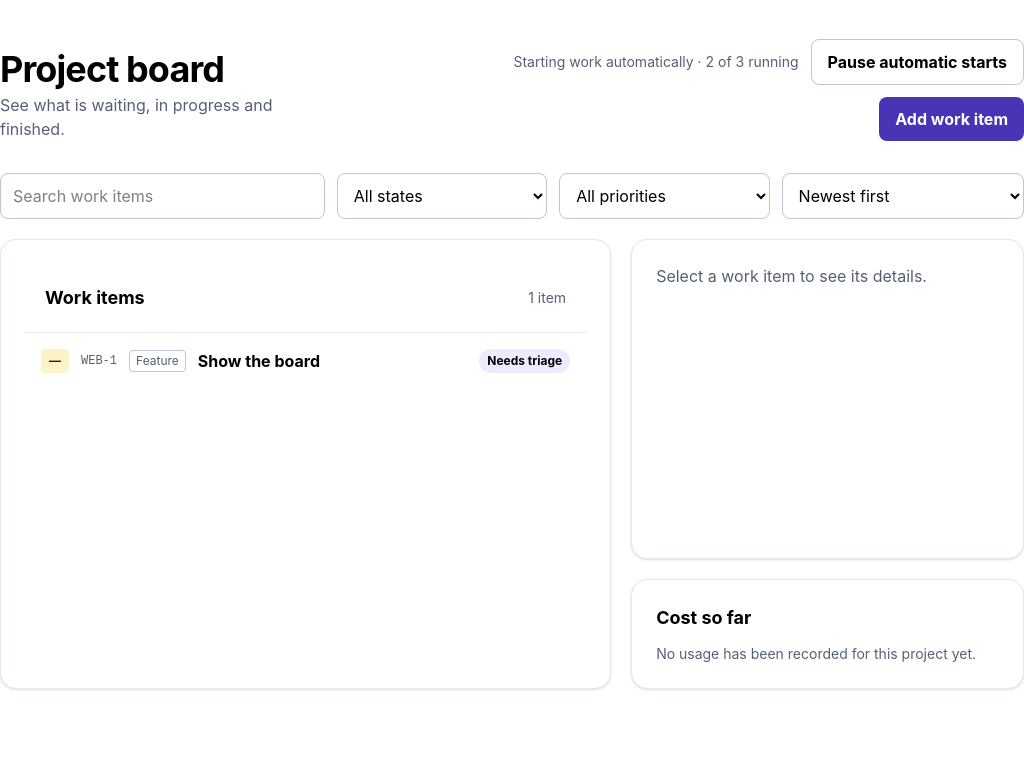
Test: keeps entered details when saving fails and retries with Try again
Expected: the button "— WEB-1 Feature Show the board Needs triage" is shown, [33,341,578,381]
Click the button "Add work item" at (952, 119), box [879,97,1023,141]
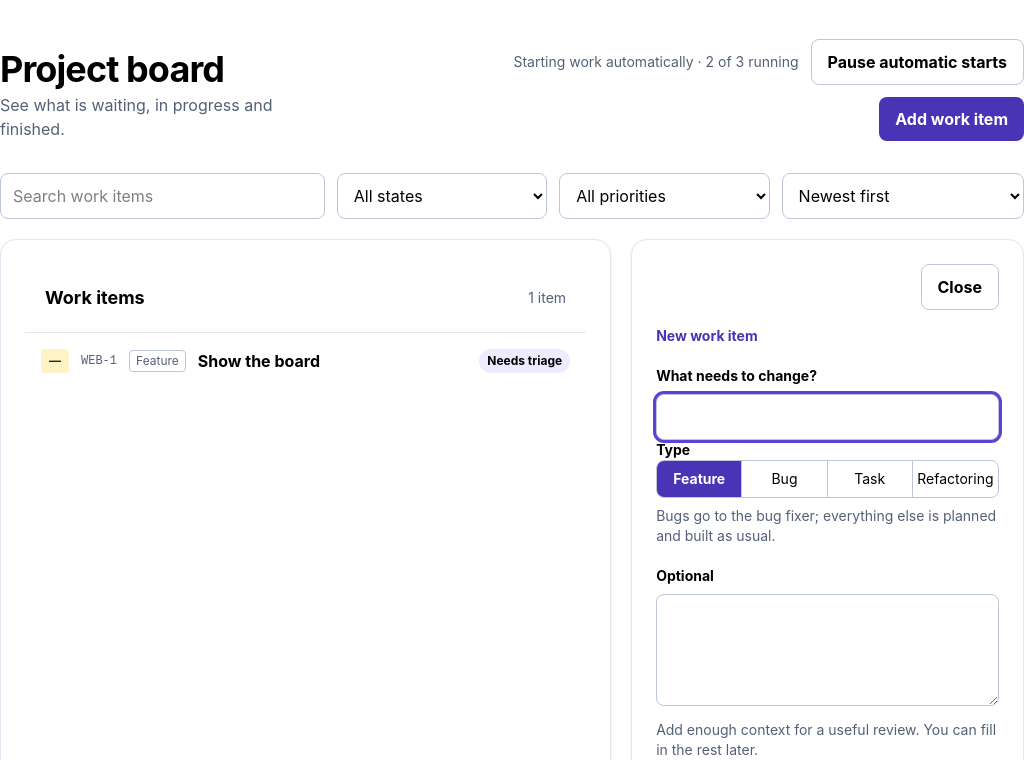
Type "Draft" into the field labelled "What needs to change?" at (828, 417), box [656,394,999,440]
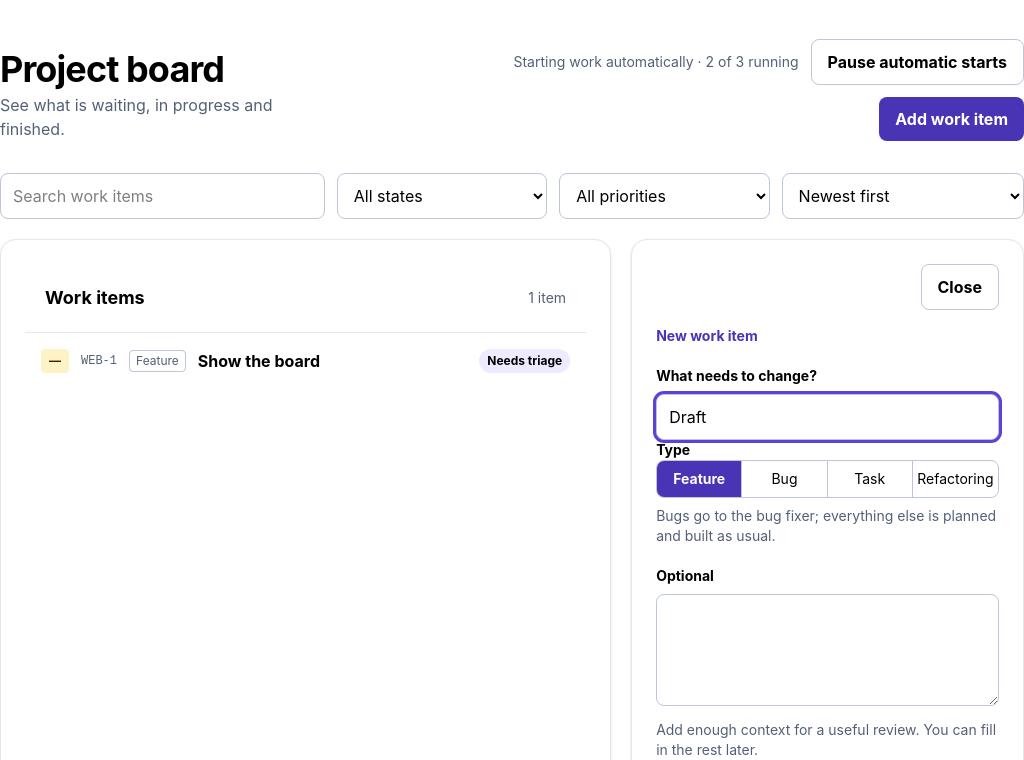
Type "Context" into the text box labelled "Optional" at (828, 650), box [656,594,999,706]
(page scrolled)
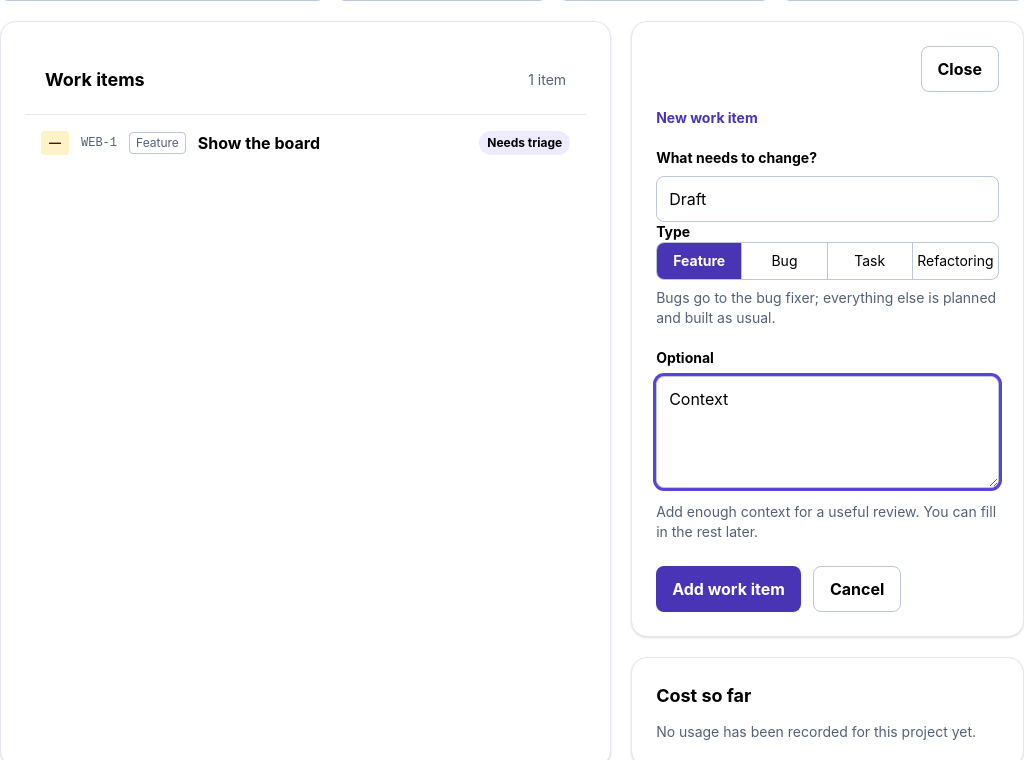
Click the button "Add work item" at (728, 589), box [656,566,801,612]
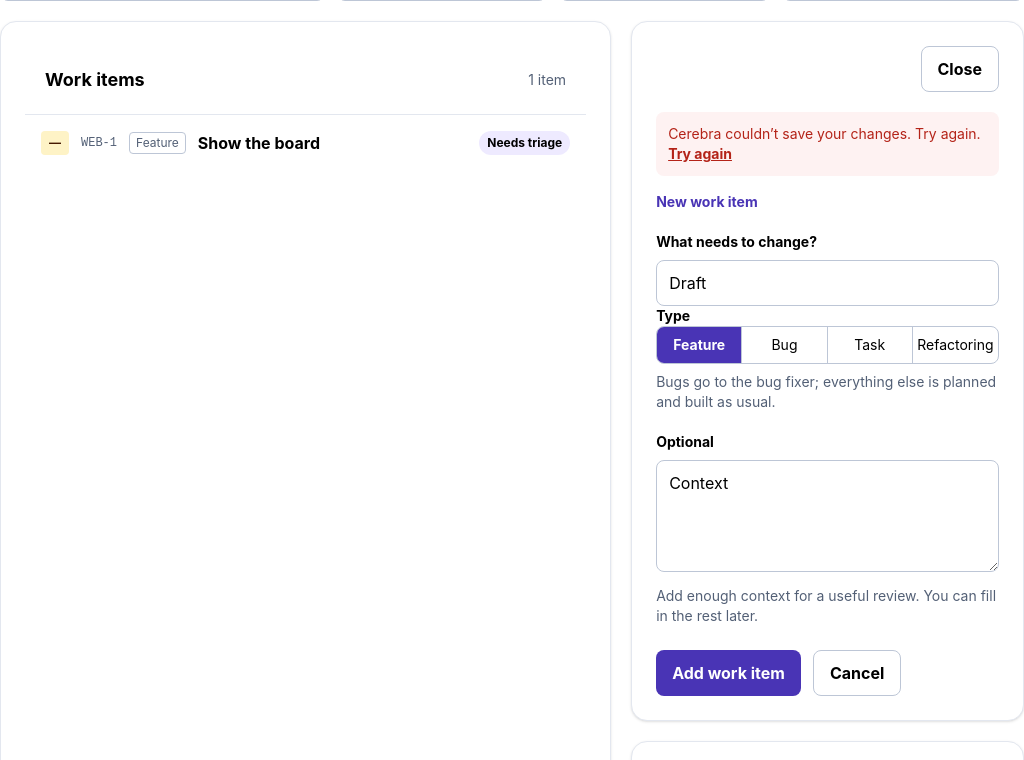
Expected: the text "Cerebra couldn’t save your changes. Try again." is shown, [668,125,981,142]
Click the button "Try again" at (700, 154), box [668,144,732,164]
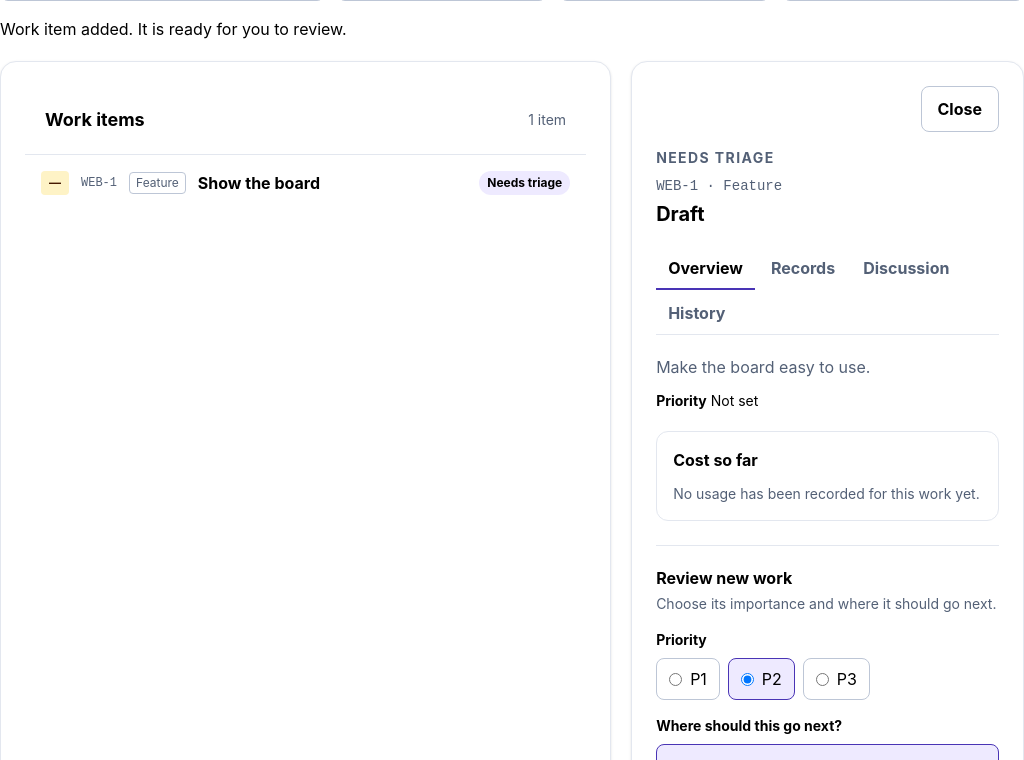
Expected: the text "Work item added. It is ready for you to review." is shown, [0,19,347,39]
